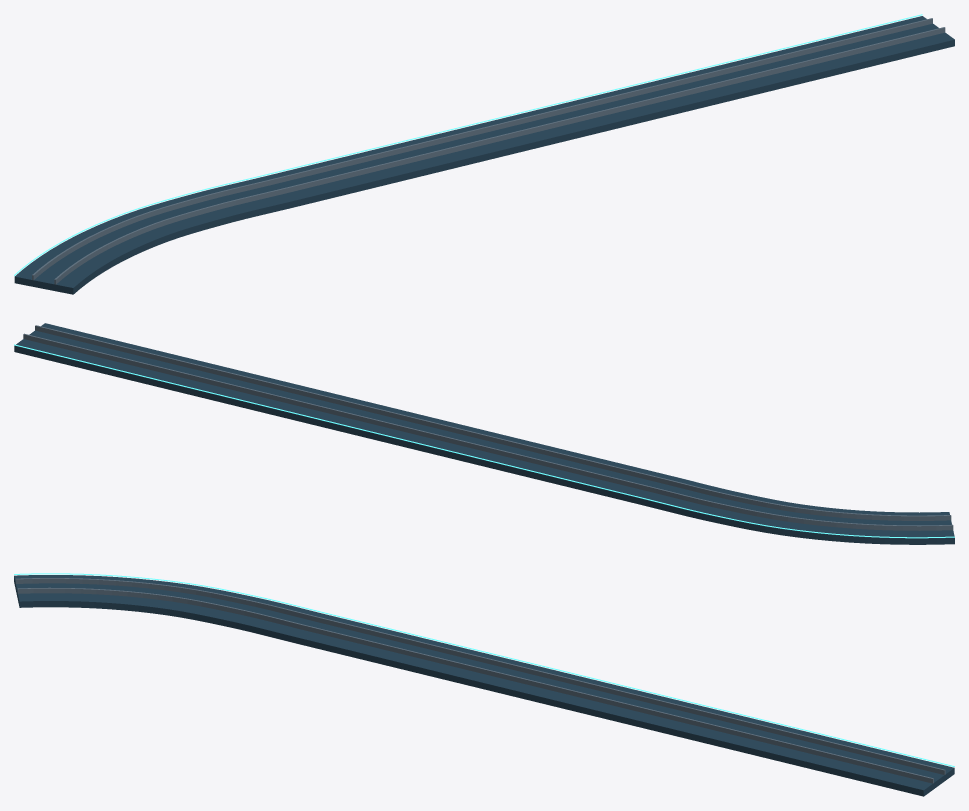
File: track_chunk_18.glb
3 renders of one model, top to bottom at view 1: azimuth 30°, elevation 25°; view 2: azimuth 150°, elevation 25°; view 3: azimuth 330°, elevation 25°, orthographic. The views are drawn at different scales.
Visible parts, largest first — view 1: deck_18, rail_left_18, rail_right_18, edge_light_18; view 2: deck_18, rail_left_18, rail_right_18, edge_light_18; view 3: deck_18, rail_left_18, rail_right_18, edge_light_18.
Part boxes in pixels (x1=…): deck_18: x1=14, y1=16, x2=954, y2=294; rail_left_18: x1=32, y1=18, x2=932, y2=280; rail_right_18: x1=54, y1=27, x2=945, y2=284; edge_light_18: x1=14, y1=14, x2=922, y2=275; deck_18: x1=14, y1=323, x2=954, y2=544; rail_left_18: x1=23, y1=333, x2=953, y2=530; rail_right_18: x1=35, y1=325, x2=951, y2=520; edge_light_18: x1=14, y1=344, x2=954, y2=538; deck_18: x1=14, y1=575, x2=954, y2=796; rail_left_18: x1=15, y1=578, x2=945, y2=774; rail_right_18: x1=17, y1=587, x2=933, y2=783; edge_light_18: x1=14, y1=573, x2=954, y2=766.
Size of the model in its own units: 64.2 by 0.7464 by 7.89.
